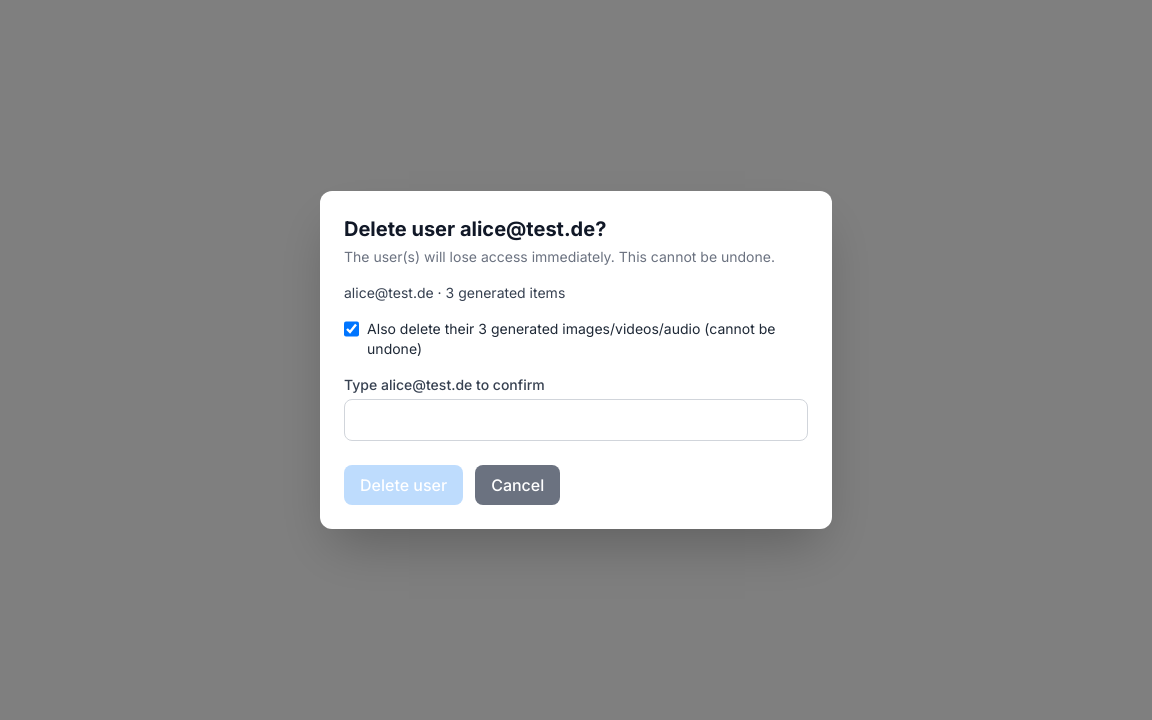
it: DeleteUsersModal (single) › shows email and media count, and disables delete until the email is typed
Expected: the heading "Delete user alice@test.de?" is shown, left=344, top=217, right=606, bottom=241
Expected: the text "Also delete their 3 generated" is shown, left=367, top=319, right=808, bottom=359
Type "alice@test" into the field named "Type alice@test.de".
click(576, 420); type("alice@test")  # box left=344, top=399, right=808, bottom=441
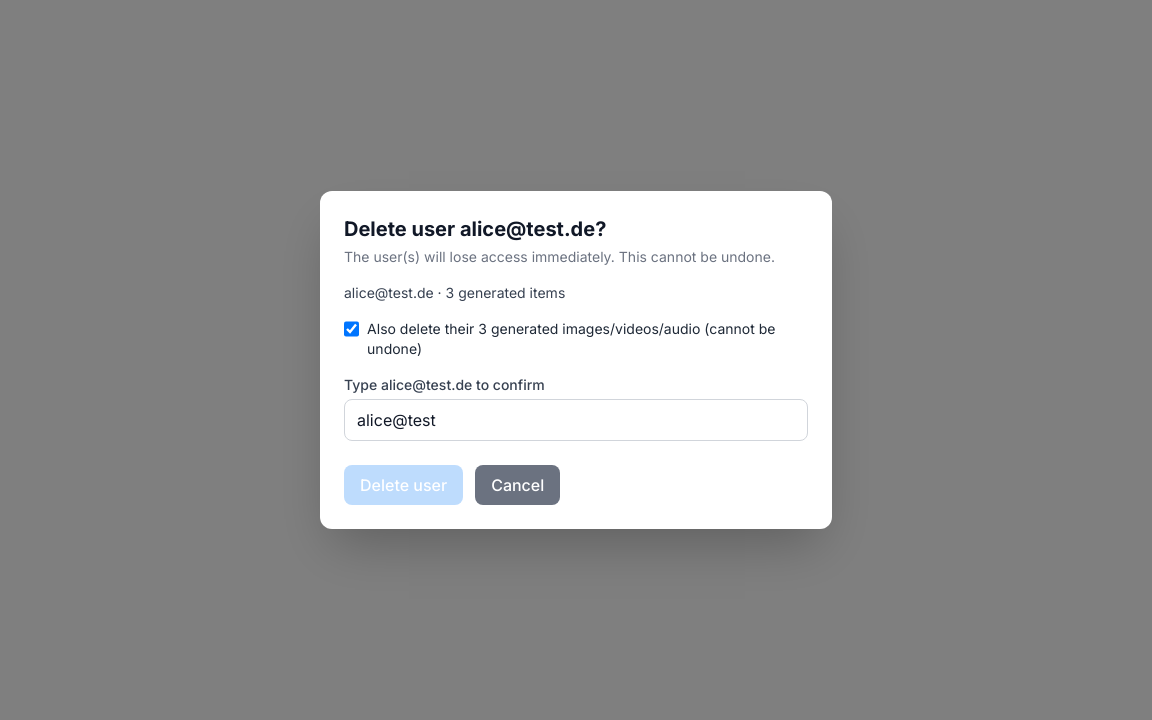
Expected: the button "Delete user" is disabled, left=344, top=465, right=463, bottom=505
Replace the text in the field named "Type alice@test.de" with "alice@test.de" at (576,420), box left=344, top=399, right=808, bottom=441
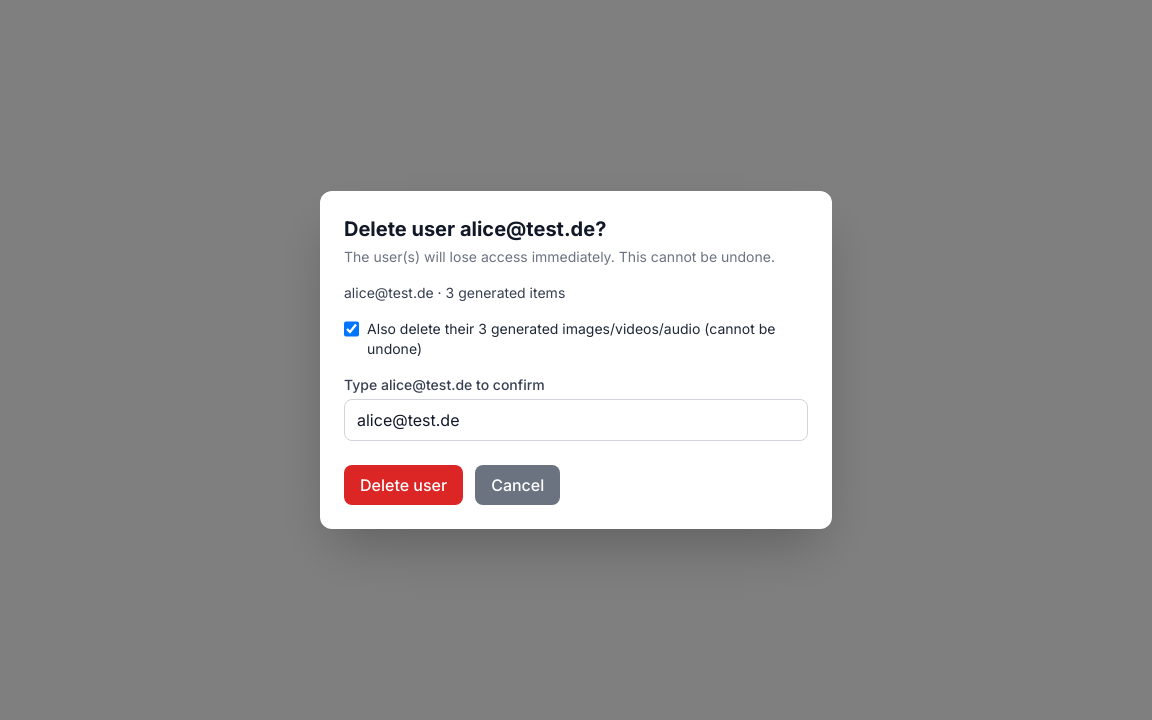
Expected: the button "Delete user" is enabled, left=344, top=465, right=463, bottom=505
